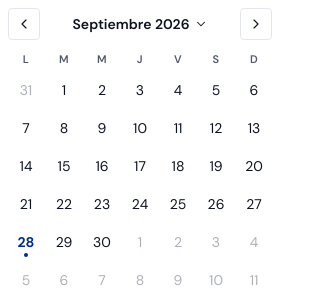
Scenario: CalendarView header › prev / next page the month; the title climbs days → months → years and stops
Expected: the button "Septiembre 2026" is shown, [64,11,216,37]
Step 1. Click the button named "Mes siguiente" → (256, 24), box [240,8,272,40]
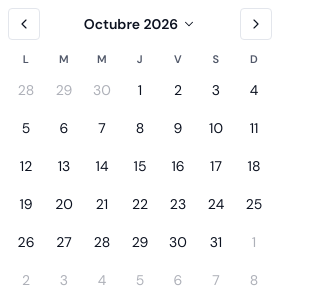
Expected: the button "Octubre 2026" is shown
Step 2. Click the button "Octubre 2026" → (140, 24), box [76,11,204,37]
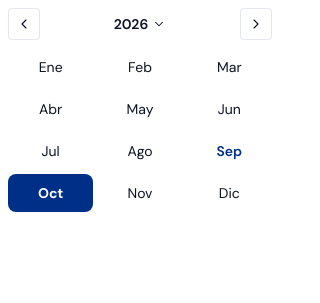
Expected: the button named "Año anterior" is shown, [8,8,40,40]
Expected: the number of buttons with class "calview__cell" is 12
Step 3. Click the button "2026" → (140, 24), box [106,11,174,37]
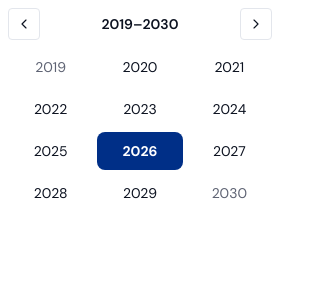
Expected: the button named "Década siguiente" is shown, [240,8,272,40]
Expected: the button "2019–2030" is shown, [94,11,187,37]
